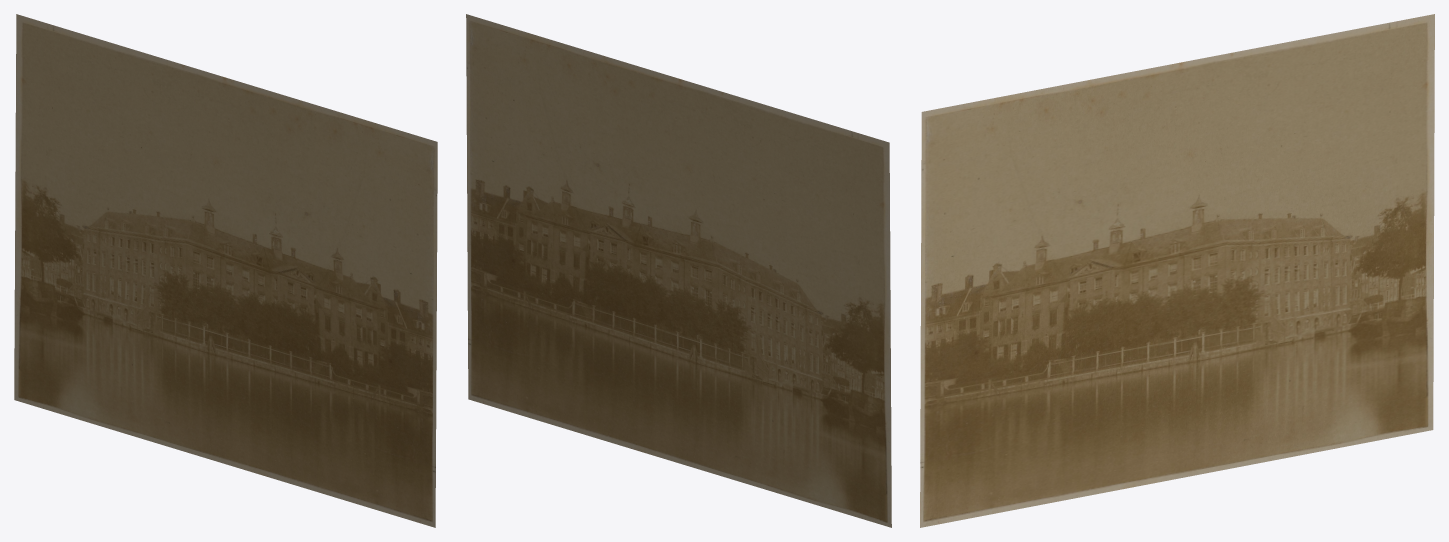
The model's file is 1857_diaconie_oud_foto_peter_oosterhuis.glb.
3 renders of one model, left to right at view 1: azimuth 30°, elevation 25°; view 2: azimuth 210°, elevation 25°; view 3: azimuth 270°, elevation 25°, orthographic. The views are drawn at different scales.
Parts seen in each view (by area): view 1: 1857_diaconie_oud_foto_peter_oosterhuis; view 2: 1857_diaconie_oud_foto_peter_oosterhuis; view 3: 1857_diaconie_oud_foto_peter_oosterhuis.
Part boxes in pixels (x1=…): 1857_diaconie_oud_foto_peter_oosterhuis: x1=14, y1=14, x2=437, y2=527; 1857_diaconie_oud_foto_peter_oosterhuis: x1=466, y1=14, x2=891, y2=527; 1857_diaconie_oud_foto_peter_oosterhuis: x1=920, y1=14, x2=1434, y2=527.
Size of the model in its own units: 14.26 by 27.9 by 31.18.
1 material, 1 textured.
